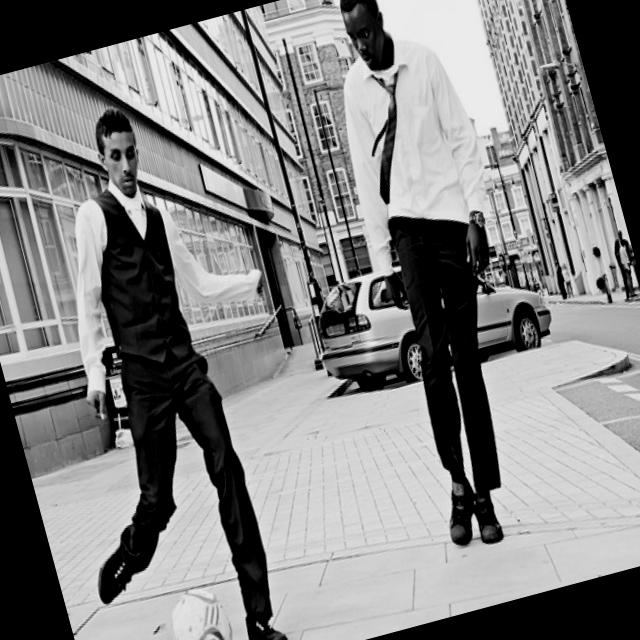Vehicle: (303, 225, 558, 404)
